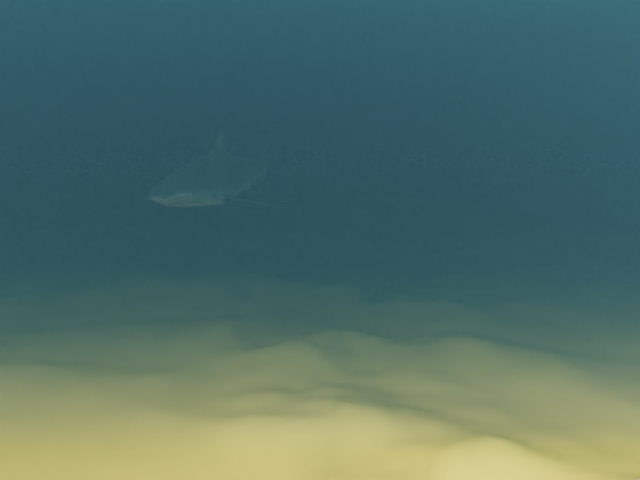Carribean Shark.001: (148, 121, 288, 209)
